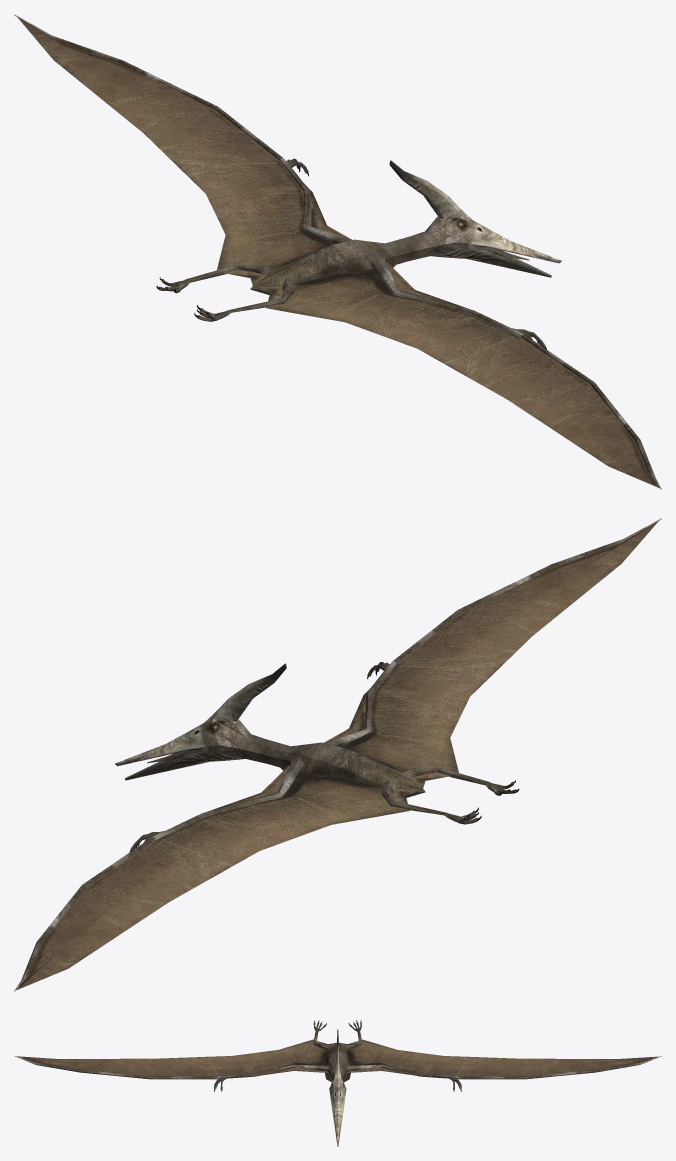
The model's file is ptero.obj.
The picture shows the model from 3 angles, top to bottom: view 1: azimuth 30°, elevation 25°; view 2: azimuth 150°, elevation 25°; view 3: azimuth 270°, elevation 25°; orthographic projection. The views are drawn at different scales.
Visible parts, largest first — view 1: objcorpo; view 2: objcorpo; view 3: objcorpo.
Boxes of the visible parts, x1,y1,x2,y2 form: objcorpo: [14, 14, 661, 489]; objcorpo: [14, 518, 661, 991]; objcorpo: [14, 1020, 661, 1146].
Bounding box in the file's own units: 16546 × 6418 × 48028.
